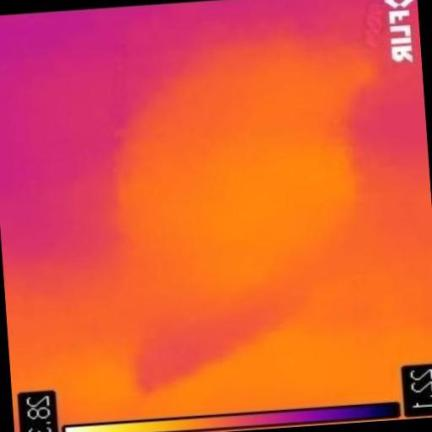mango: (117, 40, 368, 316)
